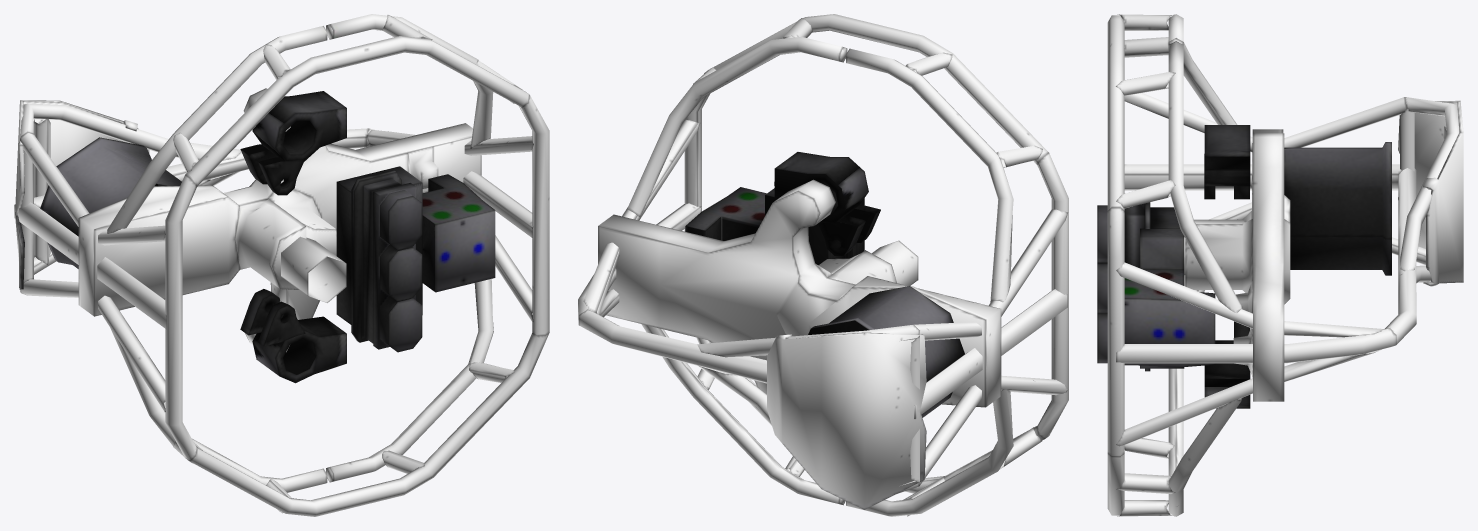
Rendered from pelvis.dae.
3 views of the same model, side by side, from view 1: azimuth 30°, elevation 25°; view 2: azimuth 150°, elevation 25°; view 3: azimuth 270°, elevation 25° (orthographic).
Visible parts, largest first — view 1: pelvis; view 2: pelvis; view 3: pelvis.
Part boxes in pixels (<box>): pelvis: <box>14,14,549,516</box>; pelvis: <box>578,14,1068,516</box>; pelvis: <box>1097,14,1463,516</box>.
Size of the model in its own units: 0.3298 by 0.3728 by 0.2739.
1 material, 1 textured.
